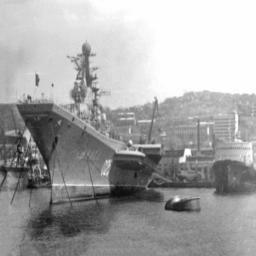Portanaves: (16, 33, 161, 210)
